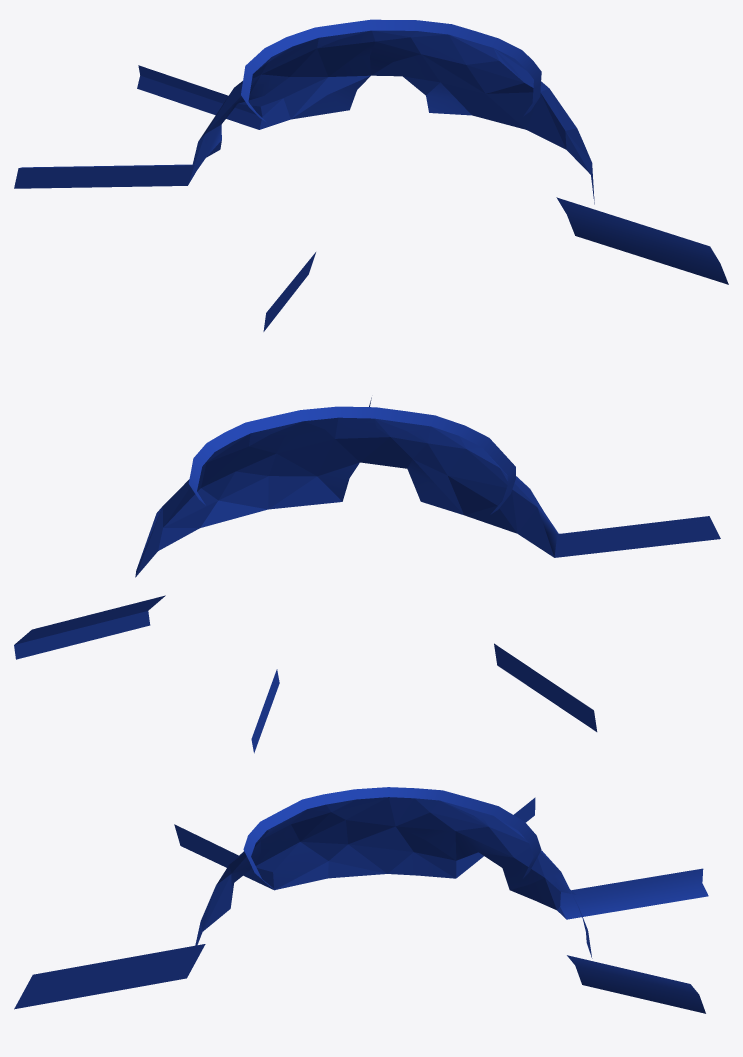
Rendered from PBR - Metallic Roughness Alpha-blend.glb.
The picture shows the model from 3 angles, top to bottom: view 1: azimuth 30°, elevation 25°; view 2: azimuth 150°, elevation 25°; view 3: azimuth 270°, elevation 25°; orthographic projection. The views are drawn at different scales.
Visible parts, largest first — view 1: pSphere1; view 2: pSphere1; view 3: pSphere1.
Part boxes in pixels (x1,y1,x2,y2): pSphere1: [14, 19, 728, 331]; pSphere1: [14, 397, 720, 753]; pSphere1: [14, 787, 708, 1013].
Bounding box in the file's own units: 26.28 × 5.9 × 34.94.
1 material, 1 textured.
